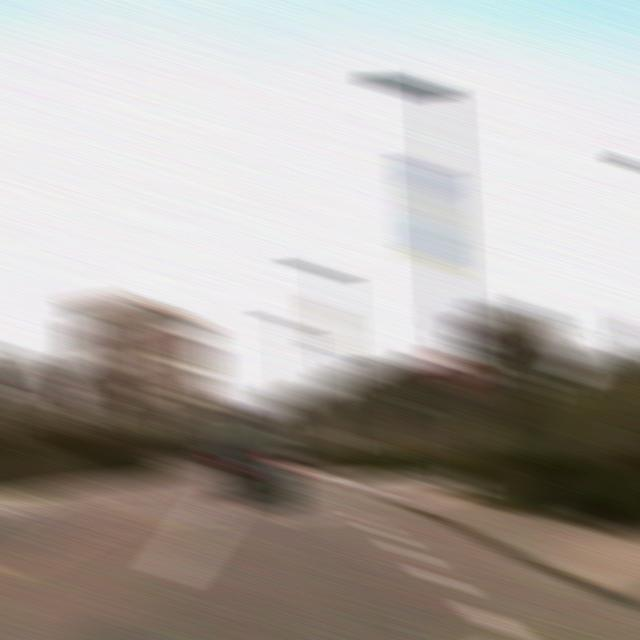stop_sign: (430, 349, 476, 392)
